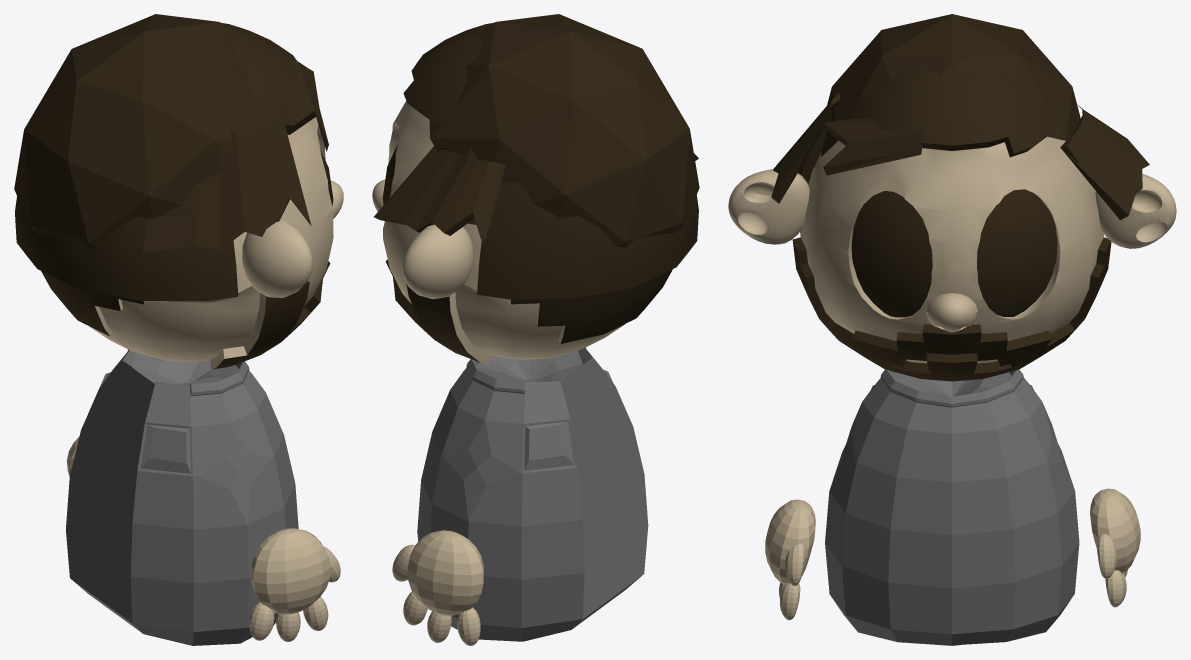
Rendered from PETER LOWPOLY blend.fbx.
3 views of the same model, side by side, from view 1: azimuth 30°, elevation 25°; view 2: azimuth 150°, elevation 25°; view 3: azimuth 270°, elevation 25° (orthographic).
Parts seen in each view (by area): view 1: Sphere.001, Sphere, Sphere.009, Sphere.016, Sphere.017, Sphere.018; view 2: Sphere.001, Sphere, Sphere.008, Sphere.014, Sphere.013, Sphere.012, Sphere.011; view 3: Sphere.001, Sphere, Sphere.008, Sphere.009, Sphere.011, Sphere.015.
Part boxes in pixels (bbox=[...]): Sphere.001: bbox=[14, 14, 343, 369]; Sphere: bbox=[66, 349, 298, 645]; Sphere.009: bbox=[251, 528, 330, 614]; Sphere.016: bbox=[249, 602, 274, 640]; Sphere.017: bbox=[276, 612, 300, 641]; Sphere.018: bbox=[303, 596, 328, 630]; Sphere.001: bbox=[372, 14, 699, 364]; Sphere: bbox=[417, 347, 648, 641]; Sphere.008: bbox=[407, 530, 483, 615]; Sphere.014: bbox=[457, 607, 480, 645]; Sphere.013: bbox=[427, 611, 451, 642]; Sphere.012: bbox=[403, 591, 427, 625]; Sphere.011: bbox=[392, 544, 414, 581]; Sphere.001: bbox=[728, 14, 1176, 381]; Sphere: bbox=[825, 369, 1079, 645]; Sphere.008: bbox=[1090, 488, 1140, 573]; Sphere.009: bbox=[765, 499, 815, 584]; Sphere.011: bbox=[1097, 533, 1116, 578]; Sphere.015: bbox=[785, 544, 805, 586].
Bounding box in the file's own units: 132 × 237 × 165.
